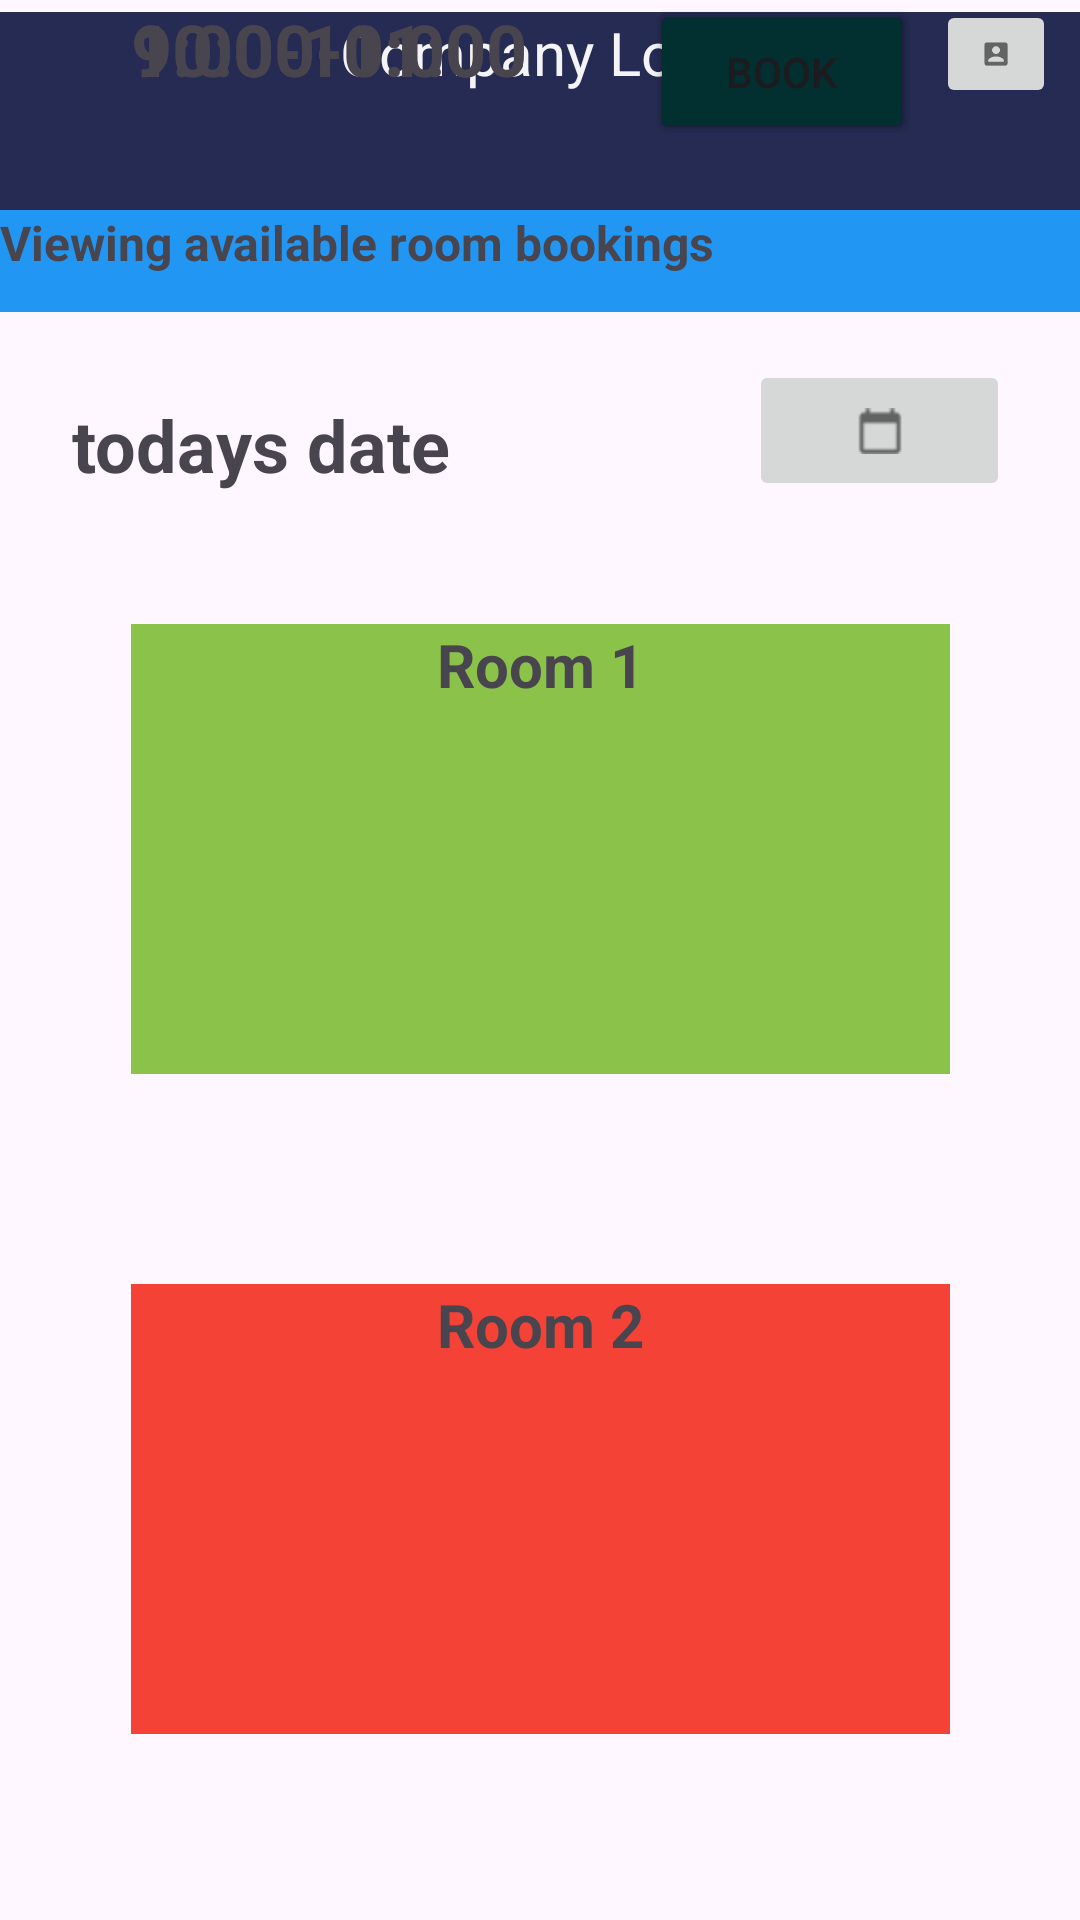

Named icons in this screenshot (1080×1920) and their centers, point (x, y):
account box: point (996, 54)
calendar today: point (879, 430)
